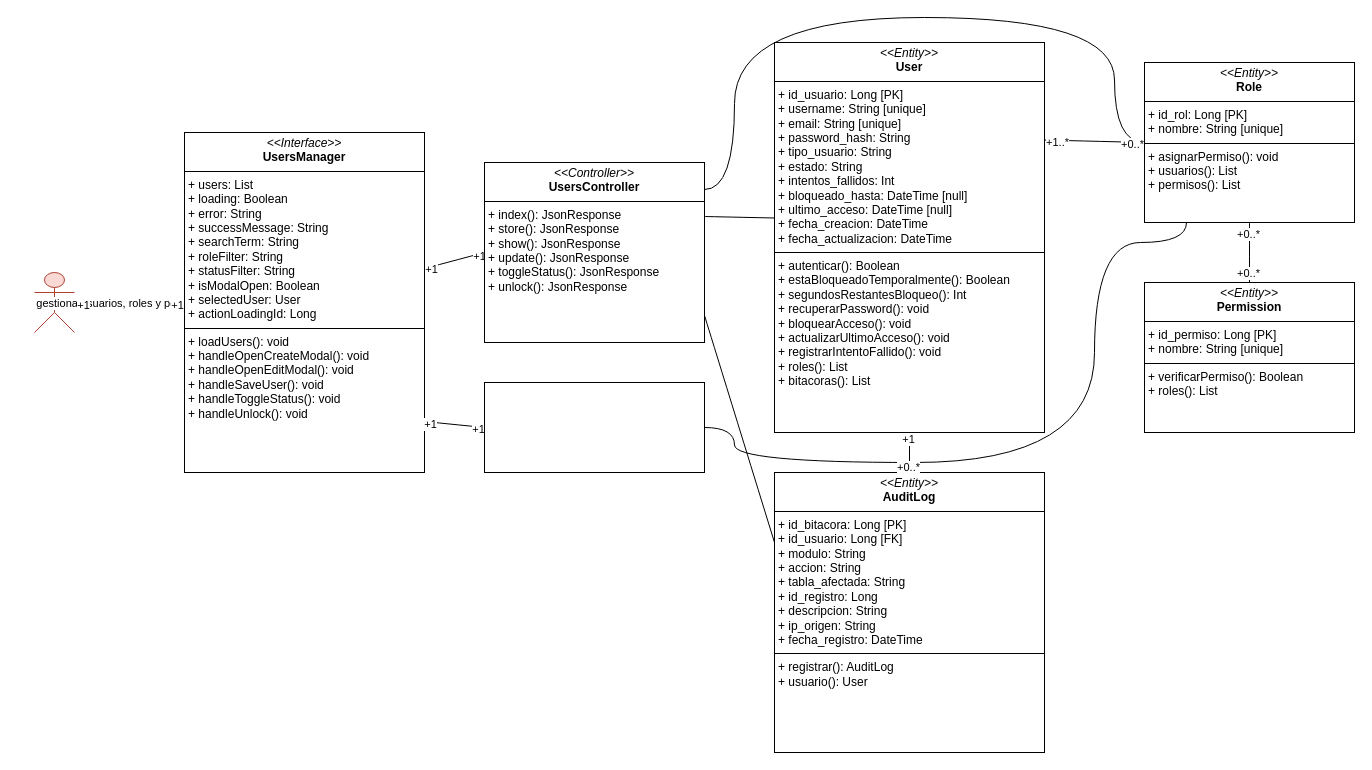
This 1372x770 diagram has some shape labels left out. Here are the shapes that lost their labels. From the top down, the centre of each, then its label:
[54,302]: Administrador
[594,427]: <<Controller>> RolesController + index(): JsonResponse
